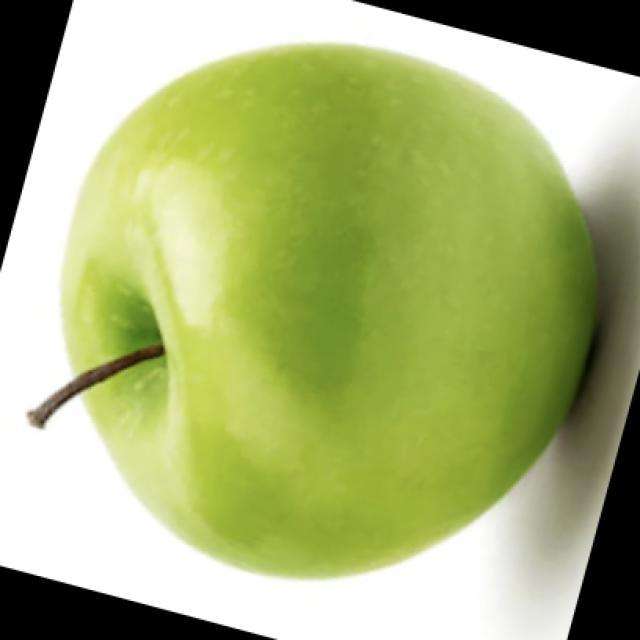Fresh Apple: (72, 60, 600, 530)
